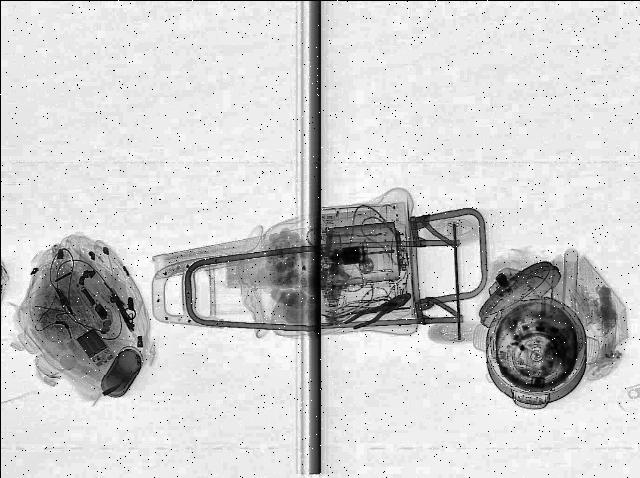Pliers: (336, 290, 414, 332)
